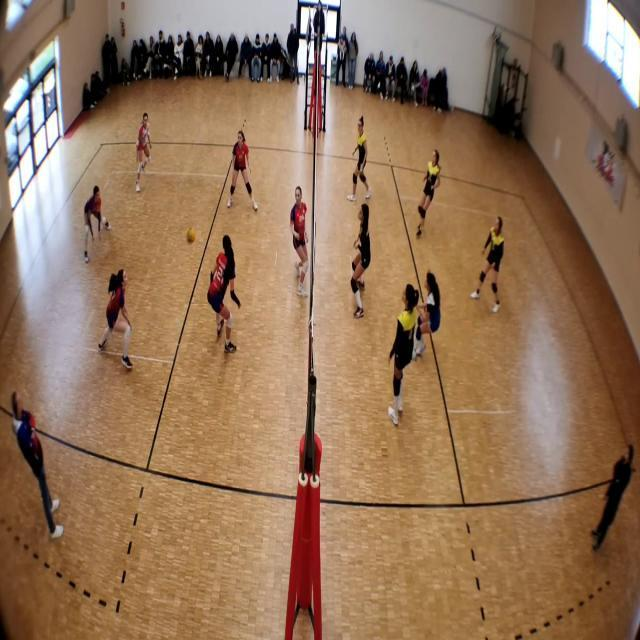volleyball: (184, 228, 196, 244)
